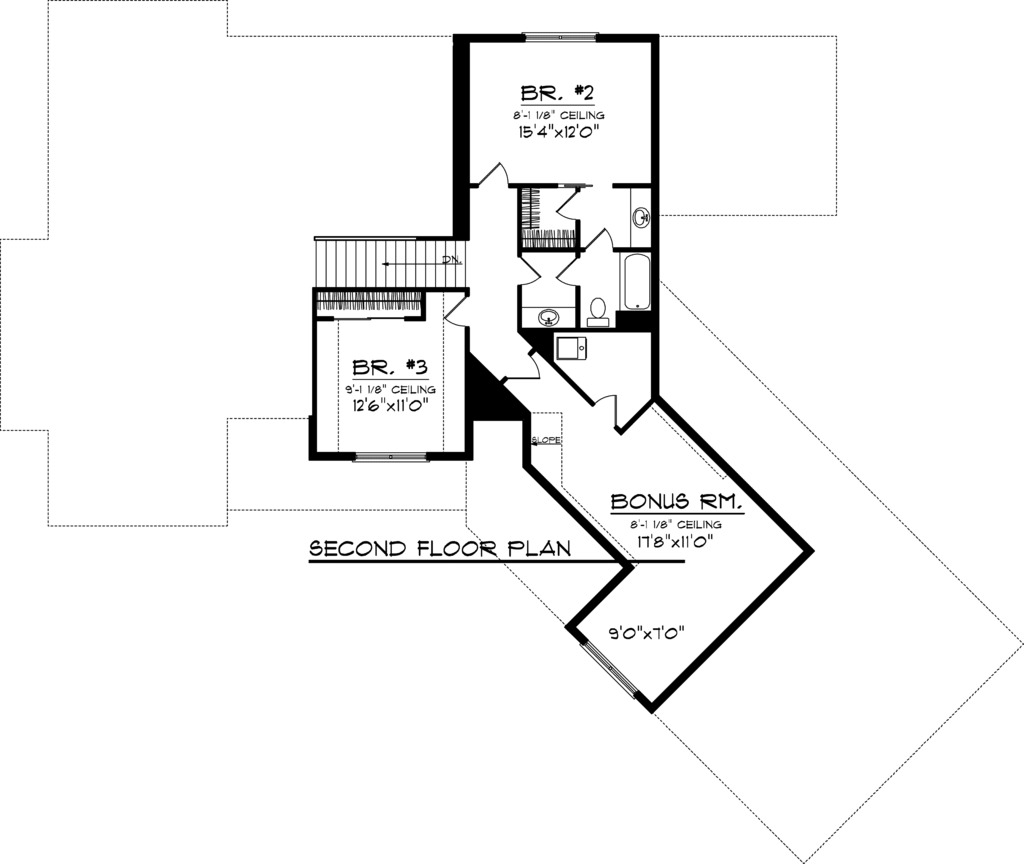door: (495, 357, 550, 388), (467, 158, 515, 191), (552, 183, 588, 225), (442, 292, 479, 332), (571, 228, 623, 255), (590, 392, 621, 430), (553, 253, 582, 291), (515, 253, 542, 288)
large_sink: (579, 296, 617, 332)
small_sink: (627, 182, 652, 242), (528, 303, 578, 325)
stairs: (304, 232, 470, 296)
tub: (620, 249, 660, 317)
window: (581, 637, 648, 704), (348, 441, 433, 470), (528, 30, 598, 46)
